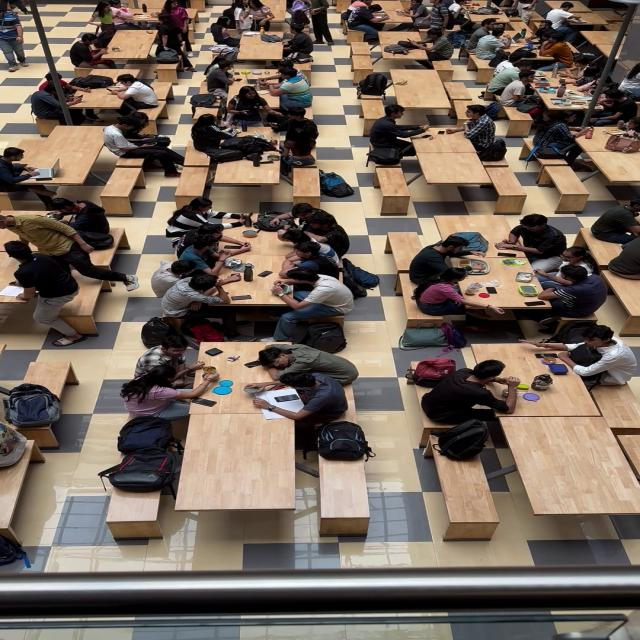Occupied: (172, 198, 372, 321), (411, 325, 640, 419), (402, 213, 606, 315), (0, 196, 146, 331), (135, 330, 340, 410), (196, 58, 324, 164), (466, 0, 604, 70), (370, 97, 509, 160), (36, 62, 160, 110), (492, 64, 623, 109), (111, 406, 182, 485), (0, 388, 65, 472), (111, 107, 184, 171), (537, 108, 640, 151), (340, 0, 455, 31), (417, 414, 493, 459), (86, 0, 200, 28), (601, 197, 640, 277), (0, 148, 65, 191), (322, 417, 382, 461), (220, 0, 302, 28), (253, 27, 318, 59), (71, 33, 130, 65), (200, 19, 236, 66), (356, 67, 397, 98), (622, 61, 640, 103)
Unoccupied: (508, 422, 640, 514), (184, 414, 296, 508), (439, 459, 503, 537), (322, 459, 372, 523), (24, 129, 106, 159), (542, 162, 593, 199), (107, 489, 161, 522), (400, 69, 448, 106), (20, 357, 79, 387), (421, 158, 489, 183), (372, 165, 416, 203), (601, 152, 640, 186), (101, 163, 139, 196), (491, 166, 526, 201), (293, 164, 327, 197), (222, 164, 282, 182), (180, 161, 210, 196), (585, 31, 621, 59), (618, 279, 640, 311), (447, 78, 469, 108)
